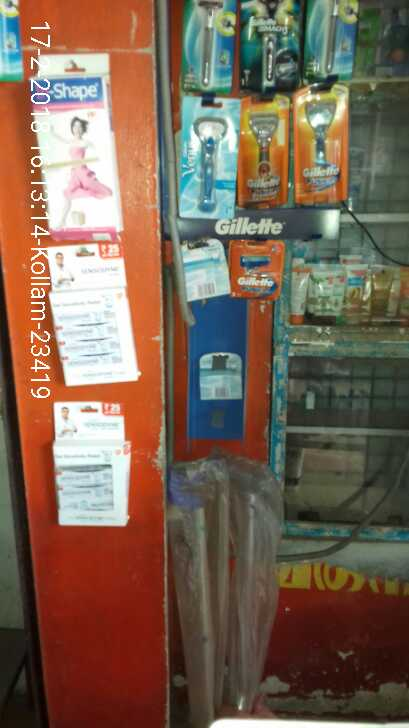beauty: (294, 79, 350, 203), (183, 97, 233, 218), (237, 96, 287, 204), (229, 239, 282, 297)
